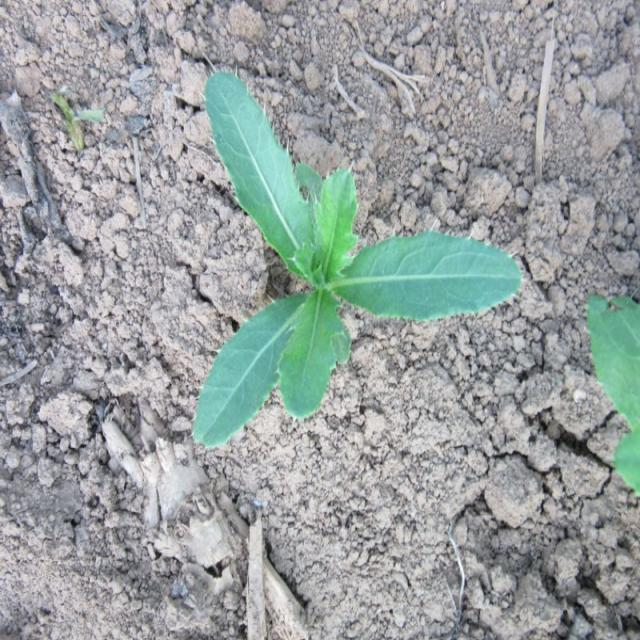cs: (190, 65, 523, 452)
